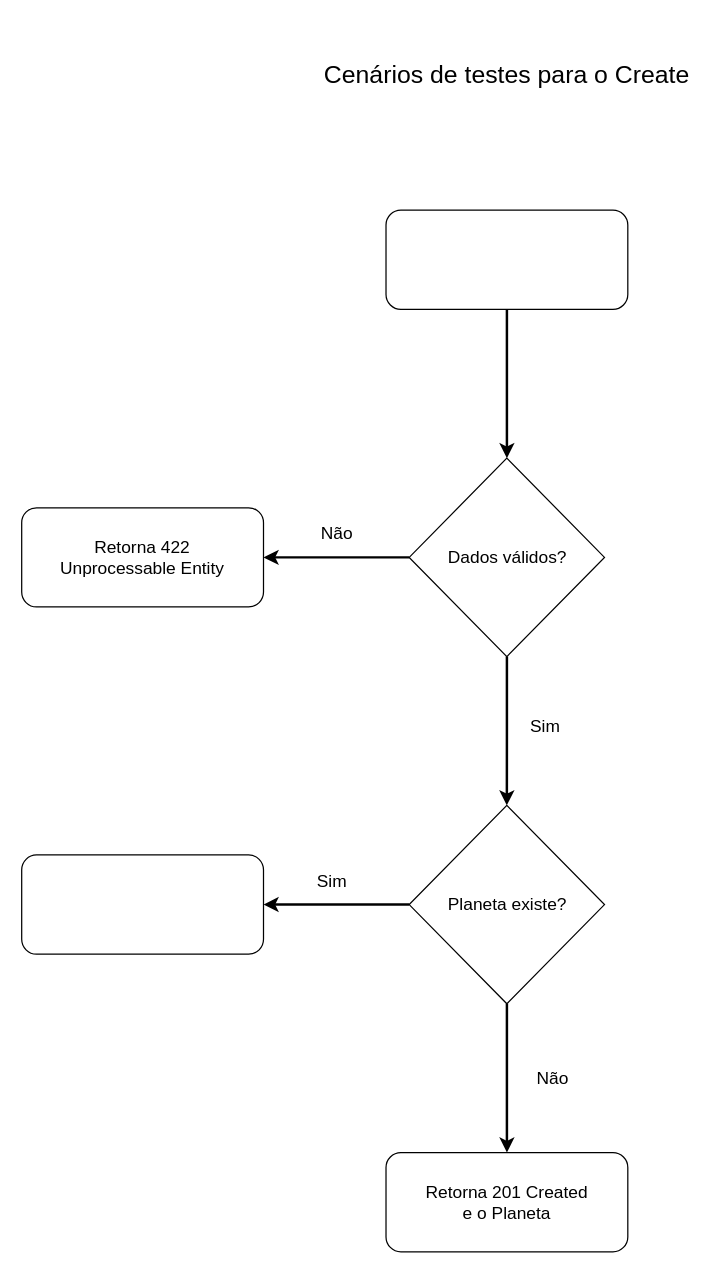
Image size: 728x1273. Some labels were removed from this diagram. The shapes that lost their labels are listed below. From the top down, each one's box as (x1, y1, x2, y2) in pixels, then its label:
(385, 209, 628, 309): Create
(20, 854, 264, 954): Retorna 409 Conflict
